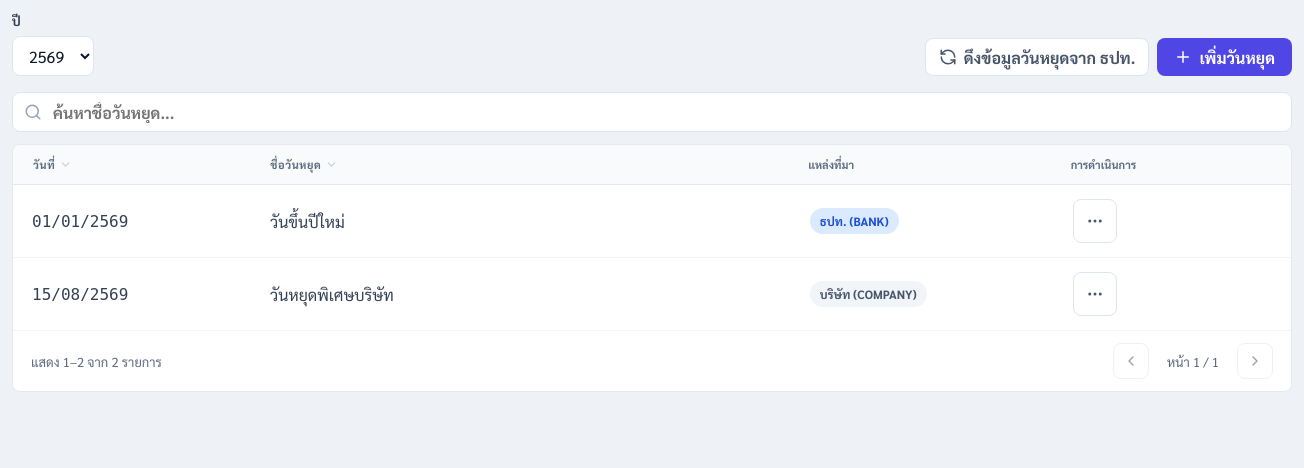
Test: HolidaysTab › reports a zero-row fetch honestly -- no success toast, a persistent non-error breakdown
Expected: the text "วันขึ้นปีใหม่" is shown, [269,210,797,232]
Step 1. Click the button "ดึงข้อมูลวันหยุดจาก ธปท." → [1037, 57], box [925,38,1149,76]
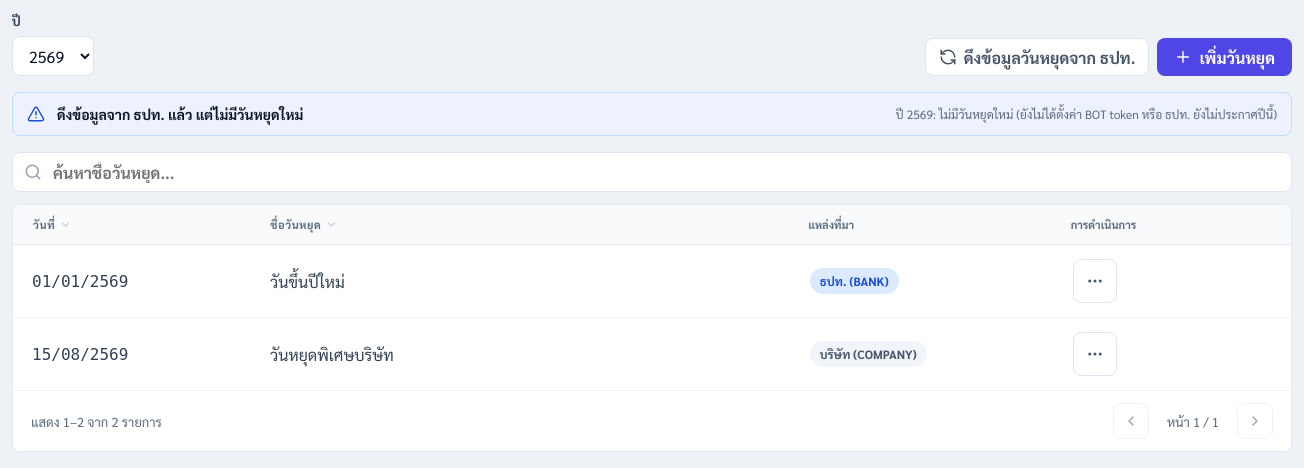
Now the text "ดึงข้อมูลจาก ธปท. แล้ว แต่ไม่มีวันหยุดใหม่" is shown, box [57,105,303,123]
Now the list item "ไม่มีวันหยุดใหม่ (ยังไม่ได้ตั้งค่า BOT token" is shown, box [939,106,1277,122]
